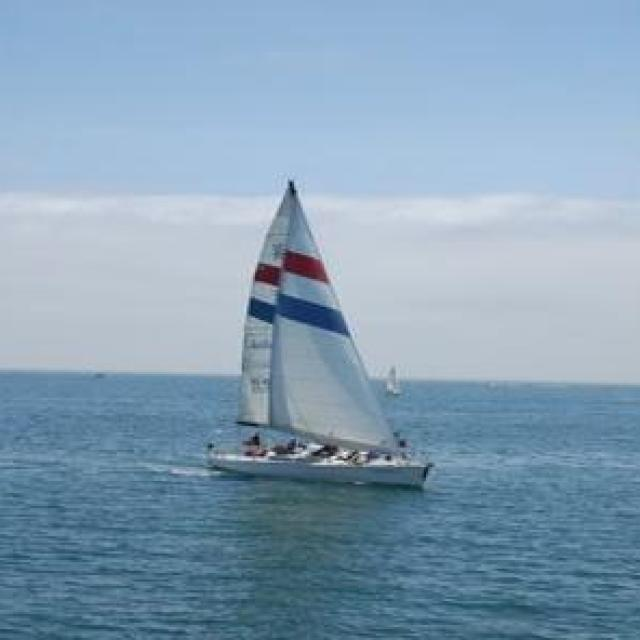sailboat: (198, 176, 432, 488), (381, 360, 405, 401)
